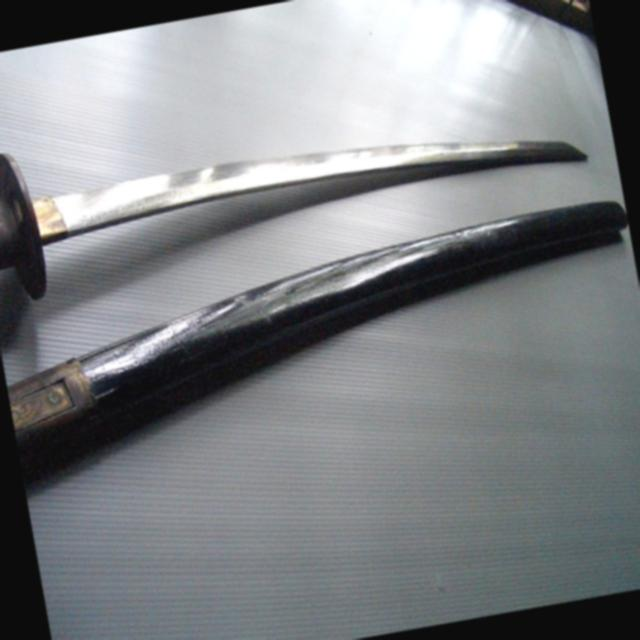long sword: (0, 189, 640, 478), (0, 61, 597, 289)
